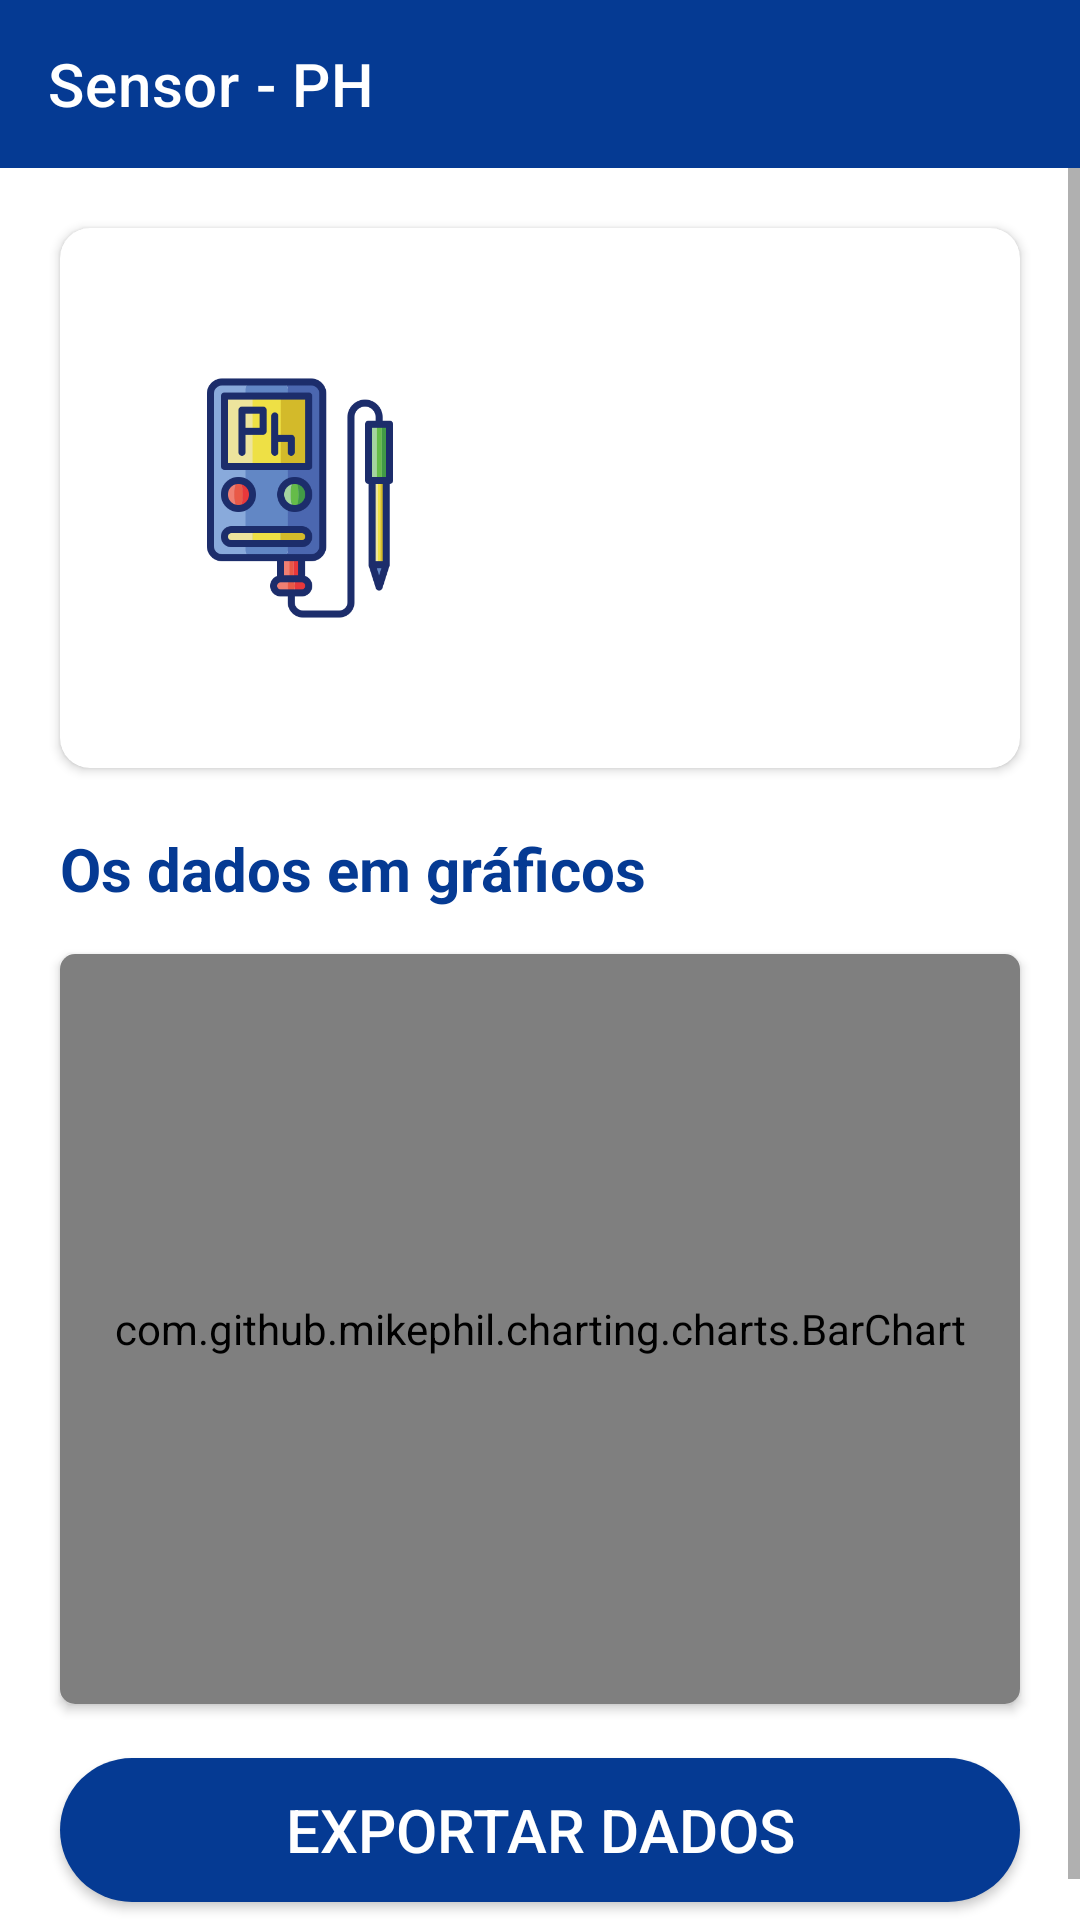

Screen size 1080px×1920px. Icon name, then its box in pixels as (x1, y1, x2, y2):
medidor de ph: (207, 378, 393, 618)
